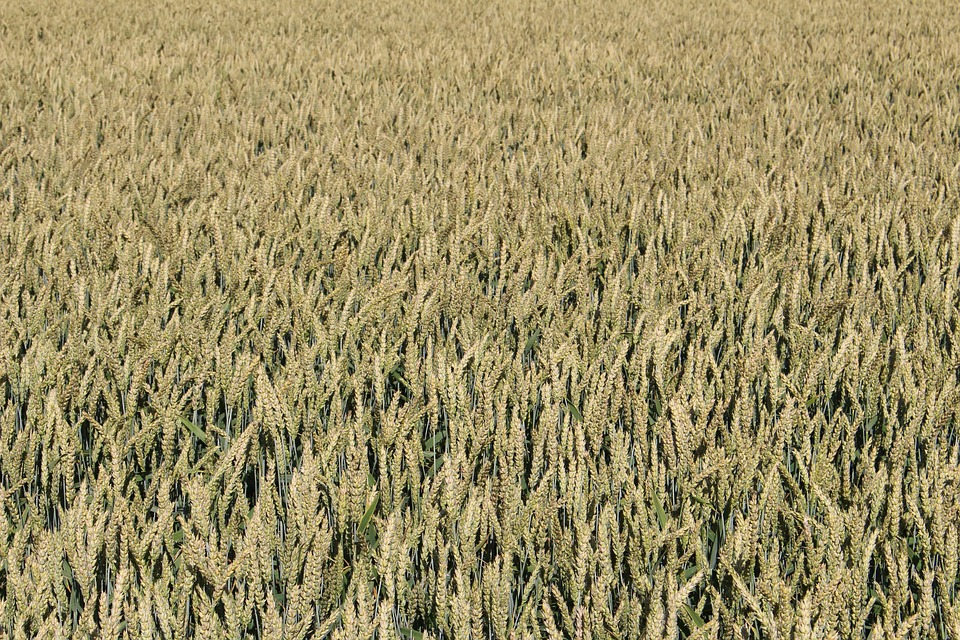Wheat: (90, 284, 846, 564)
